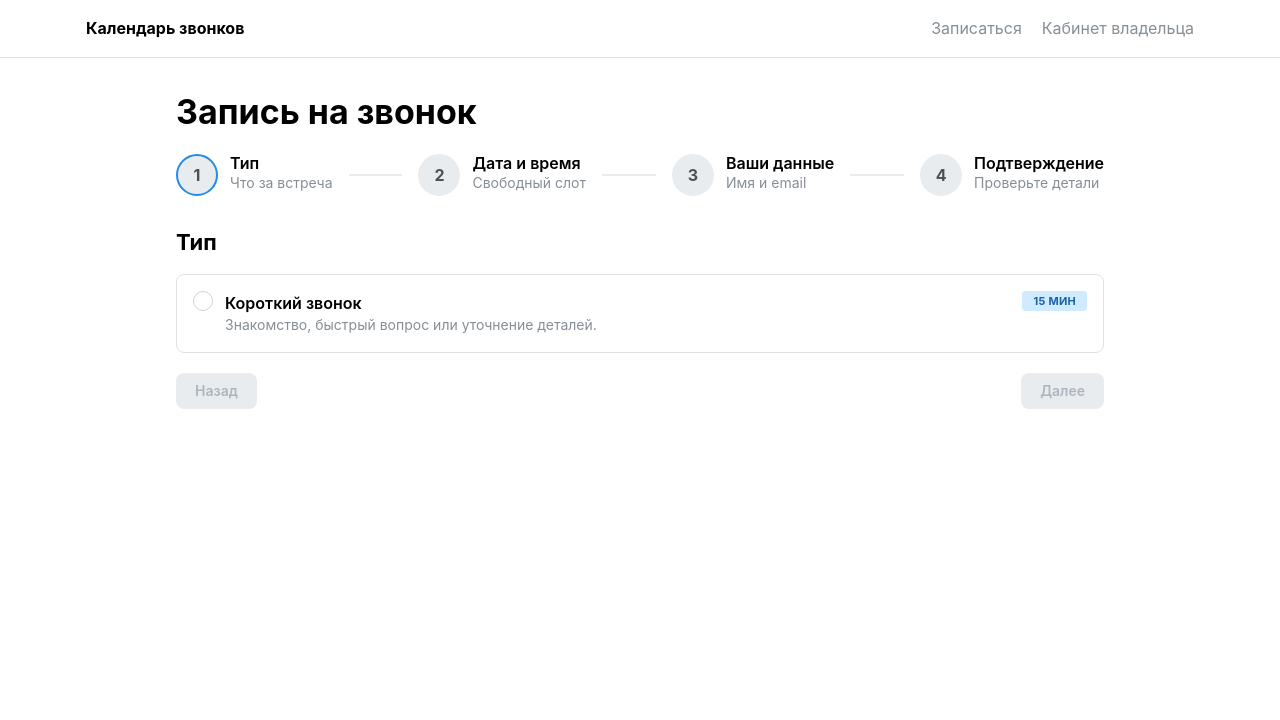
Test: шаг 2 «Дата и время» › показывает скелеты, пока слоты грузятся
Click the radio button labelled "Короткий звонок" at point(293, 303), box [176,274,1104,353]
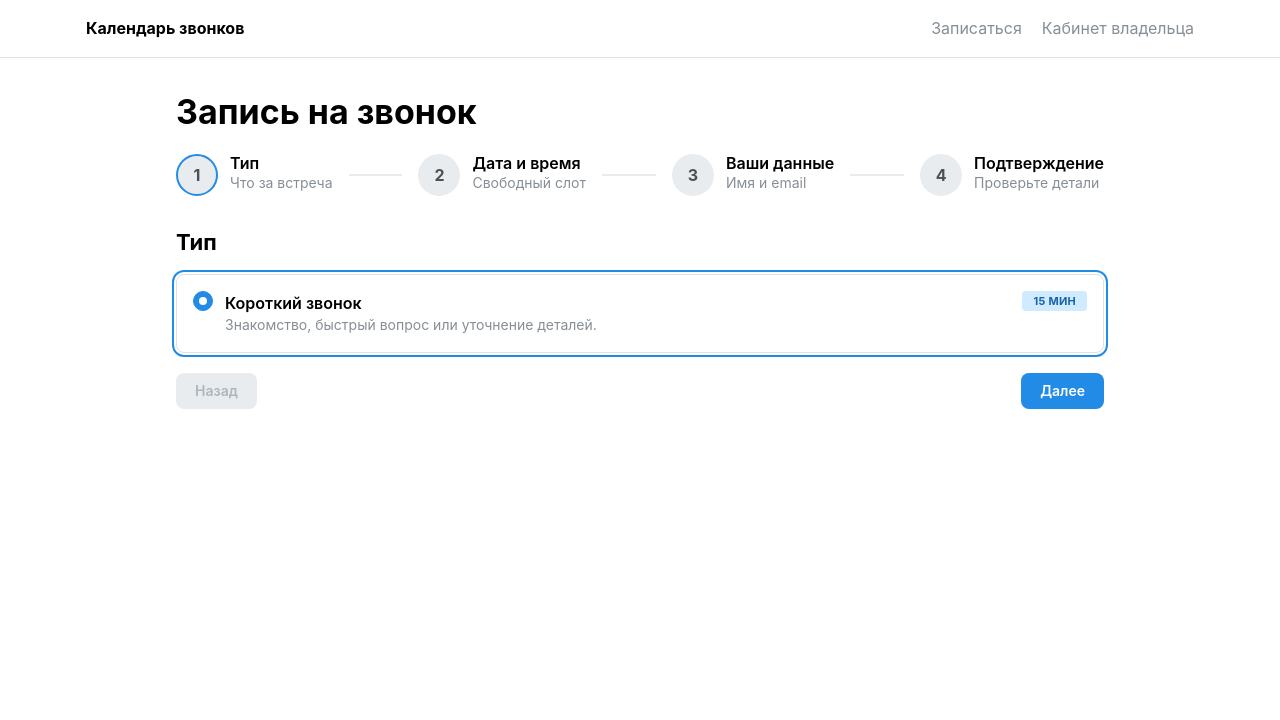
Click the button "Далее" at point(1063, 391), box [1021,373,1104,409]
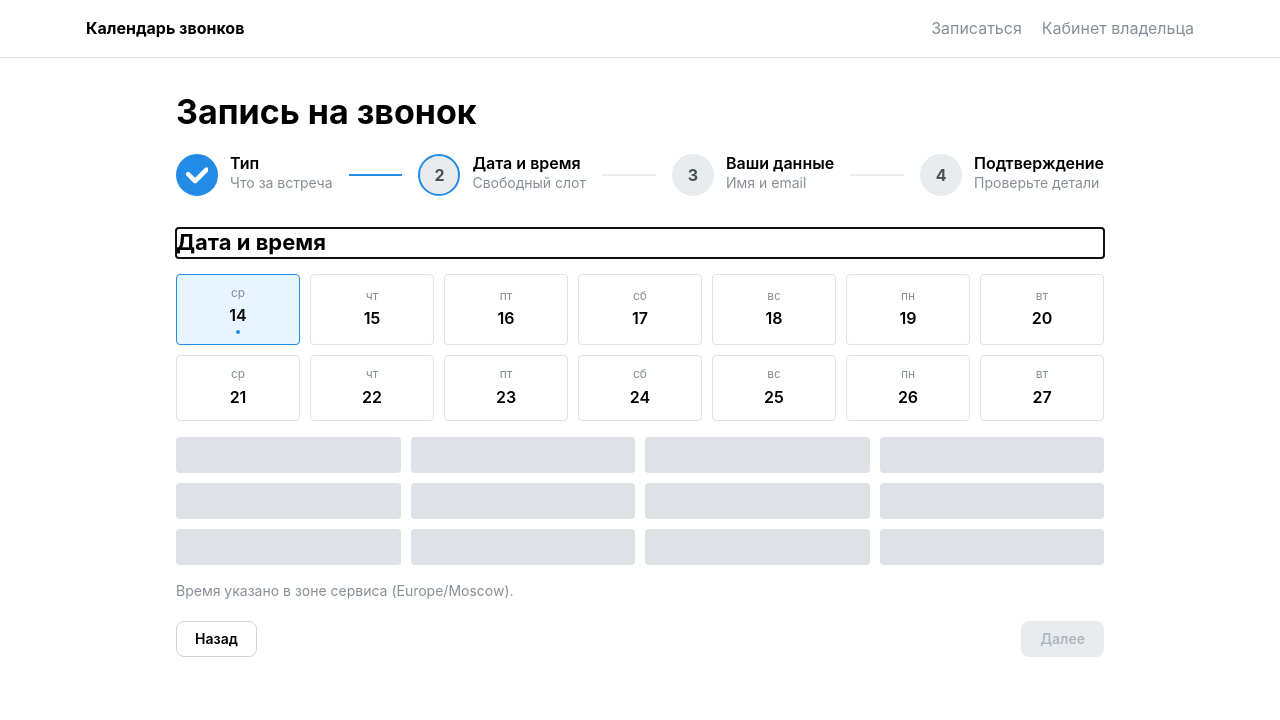
Expected: the message named "Загрузка…" is shown, [176,437,1104,565]
